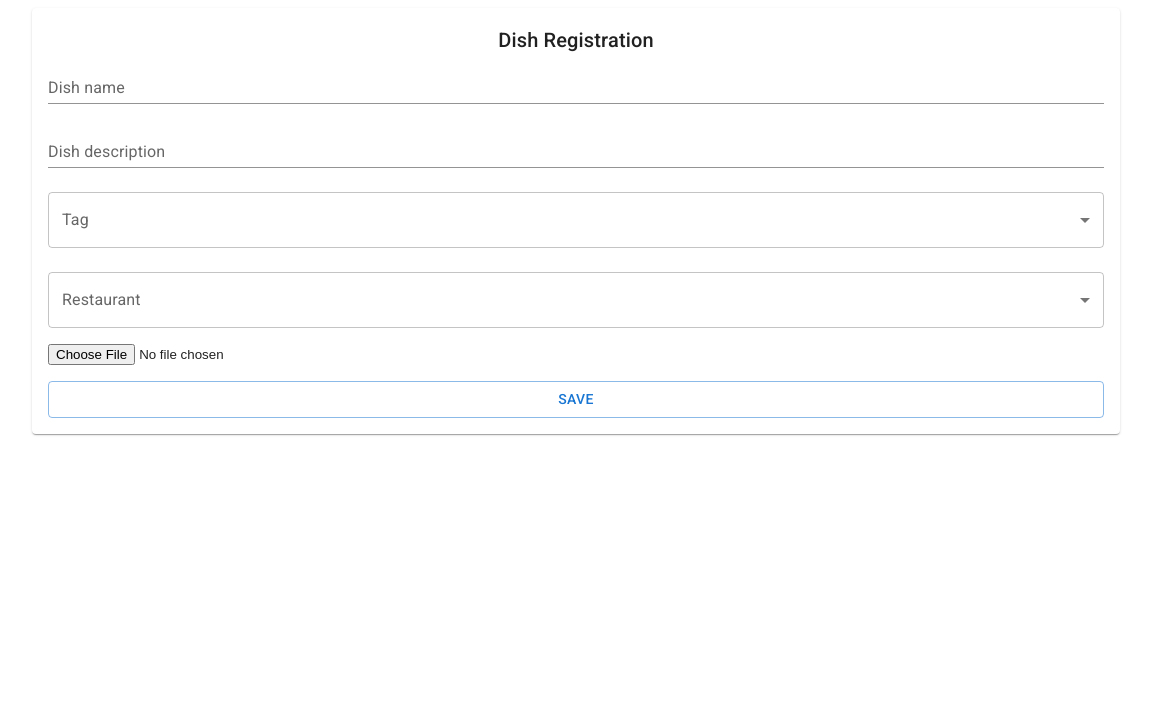
DishForm › shows validation errors and does not submit when required fields are empty
What coordinates should you click on to do the following:
click the button "Save"
I would click on:
 (576, 399)
Its box is [48, 381, 1104, 418].
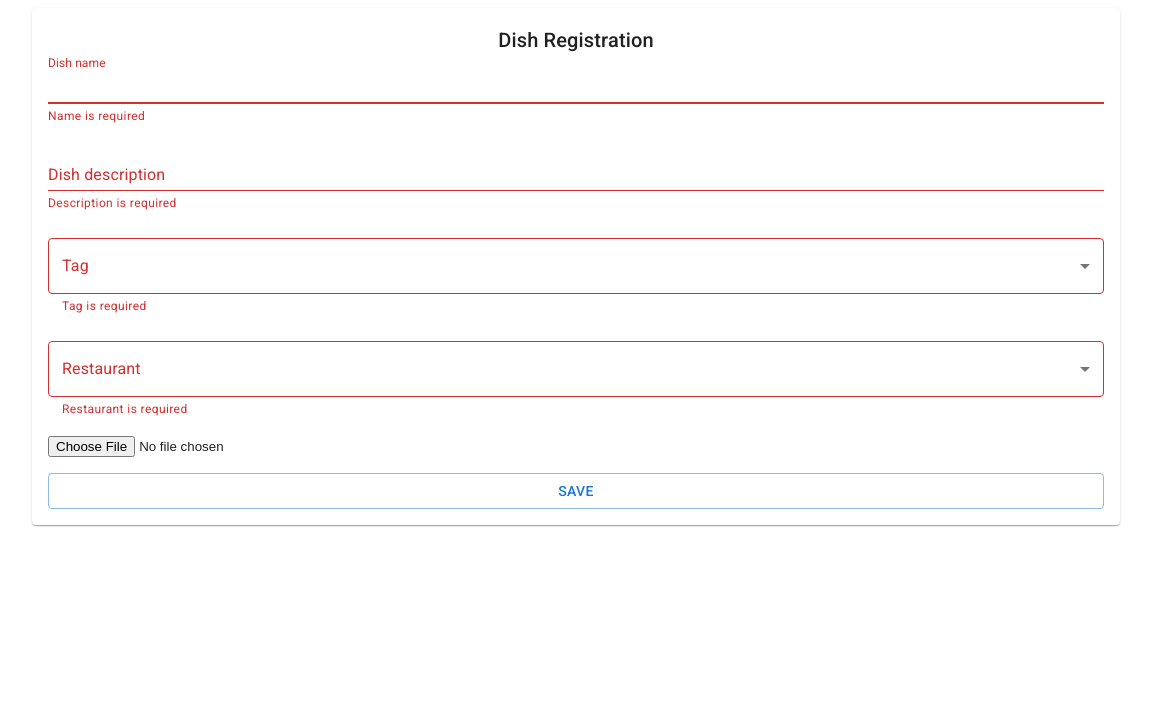
Check: the text "Name is required" is shown, box [48, 109, 145, 123]
Check: the text "Description is required" is shown, box [48, 196, 177, 210]
Check: the text "Tag is required" is shown, box [62, 299, 147, 313]
